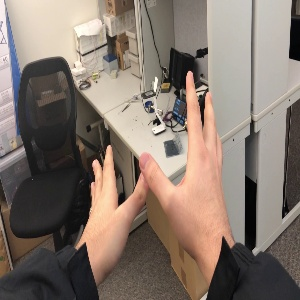hand: (139, 71, 234, 249), (84, 146, 147, 254)
